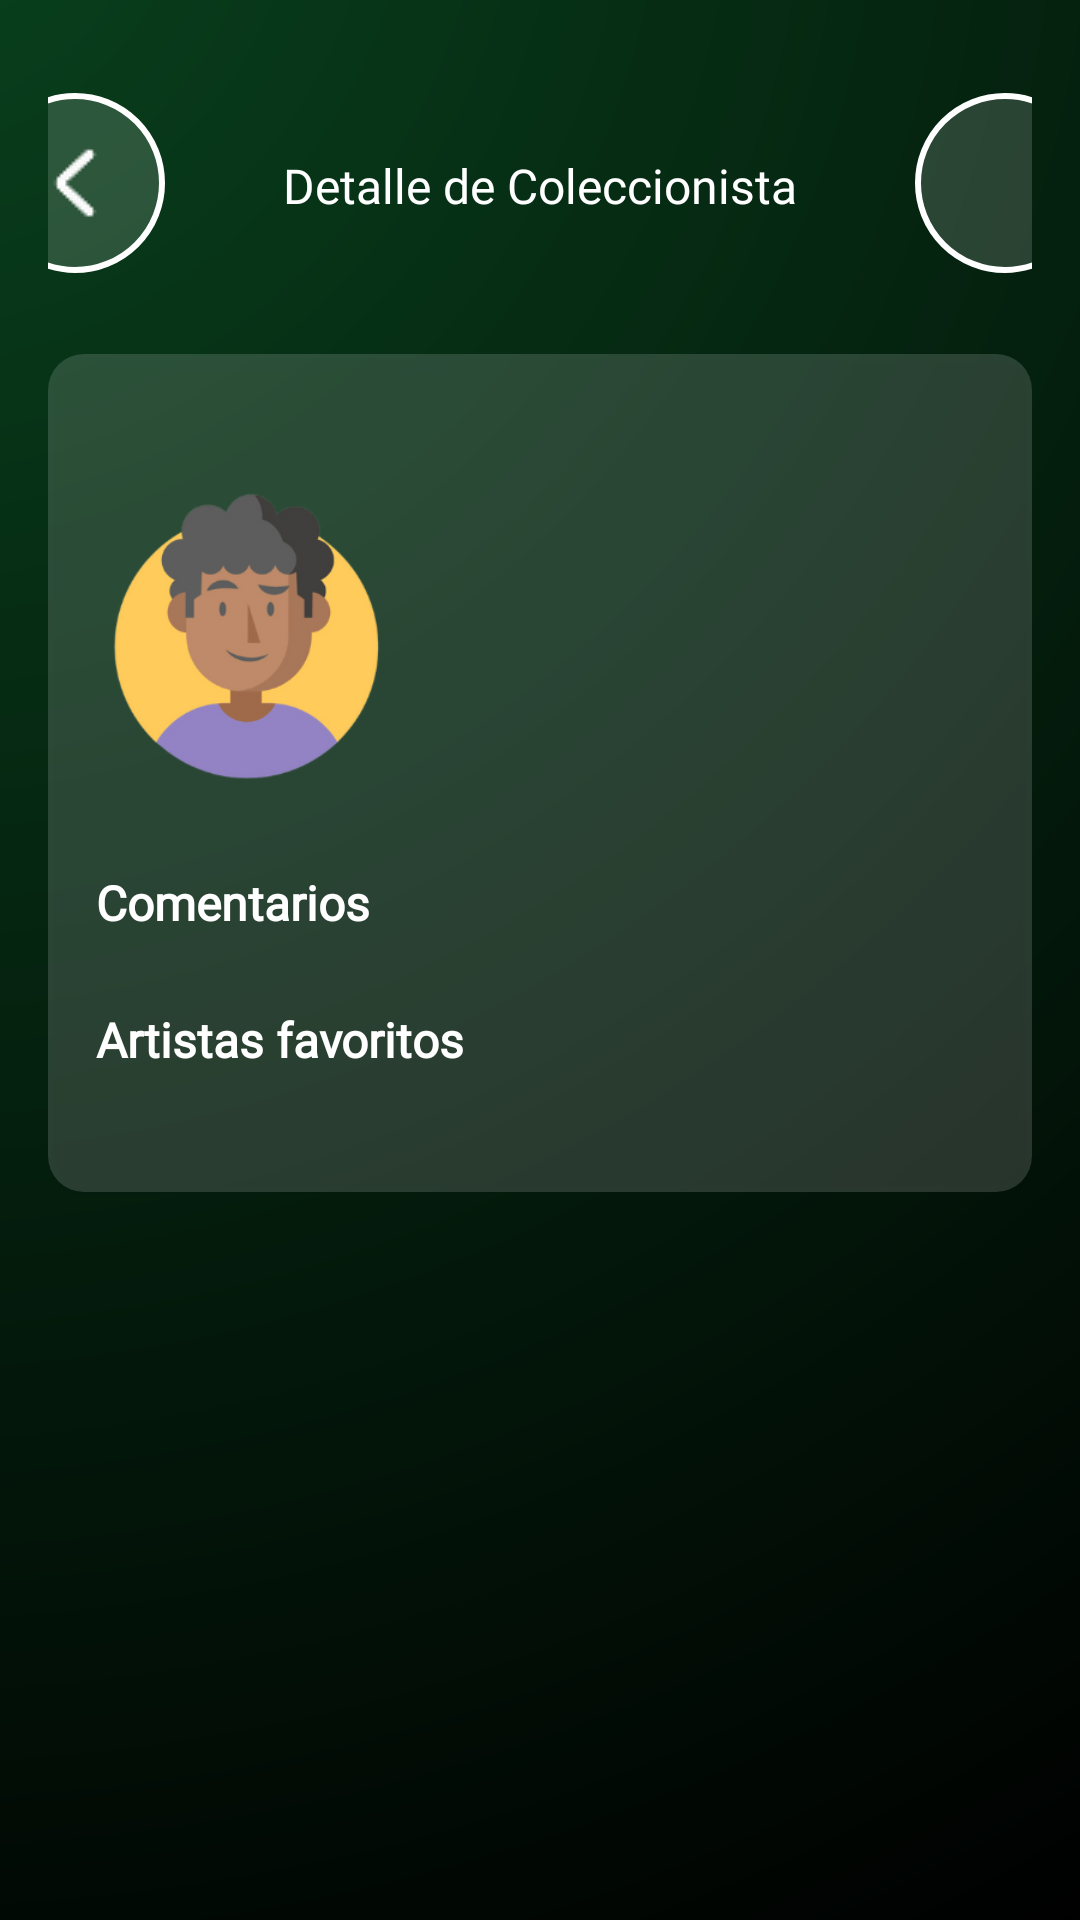

Named icons in this screenshot (1080*1920) and their bounding boxes, (x1, y1, x2, y2):
user: (114, 494, 379, 779)
